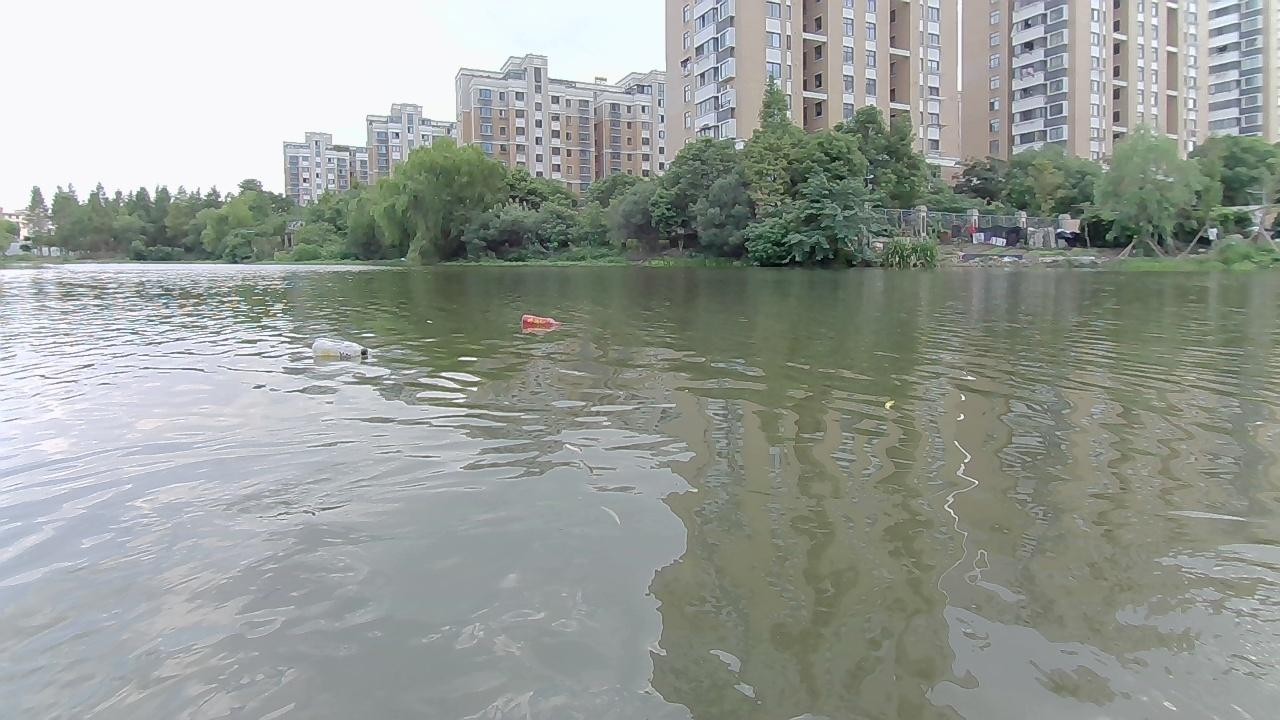bottle: (303, 334, 373, 363), (518, 310, 559, 332)
